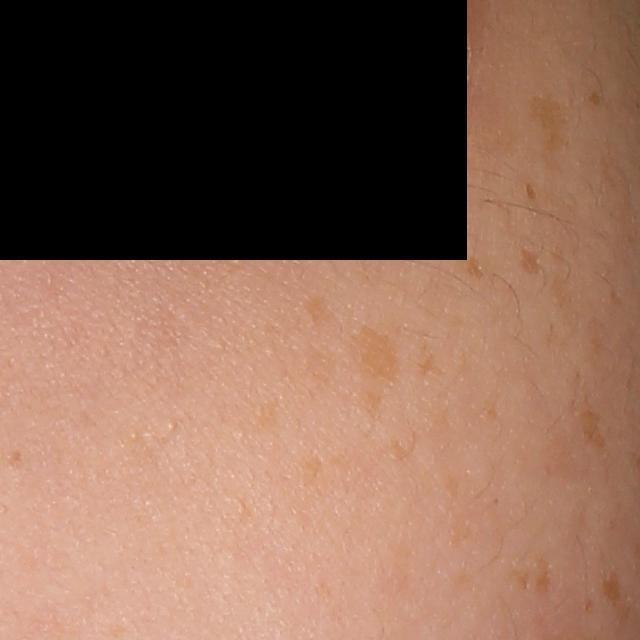melasma: (526, 93, 573, 159), (356, 320, 398, 391), (506, 557, 560, 599), (578, 406, 616, 450), (598, 564, 626, 608), (298, 295, 331, 328), (387, 426, 417, 460), (517, 245, 544, 281), (249, 397, 276, 431), (416, 350, 440, 382), (464, 253, 488, 281), (586, 87, 605, 107), (524, 181, 538, 202)
